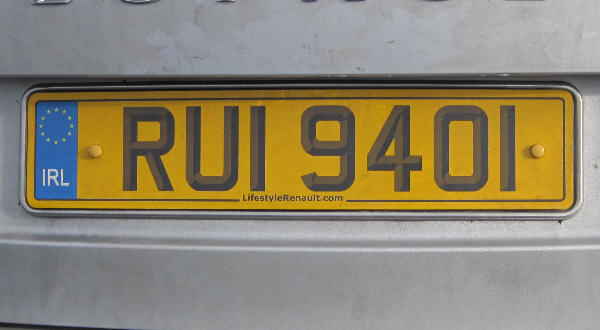license_plate: (26, 91, 574, 212)
